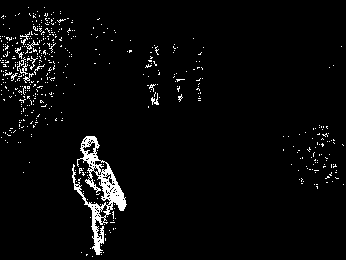person: (70, 135, 128, 257)
